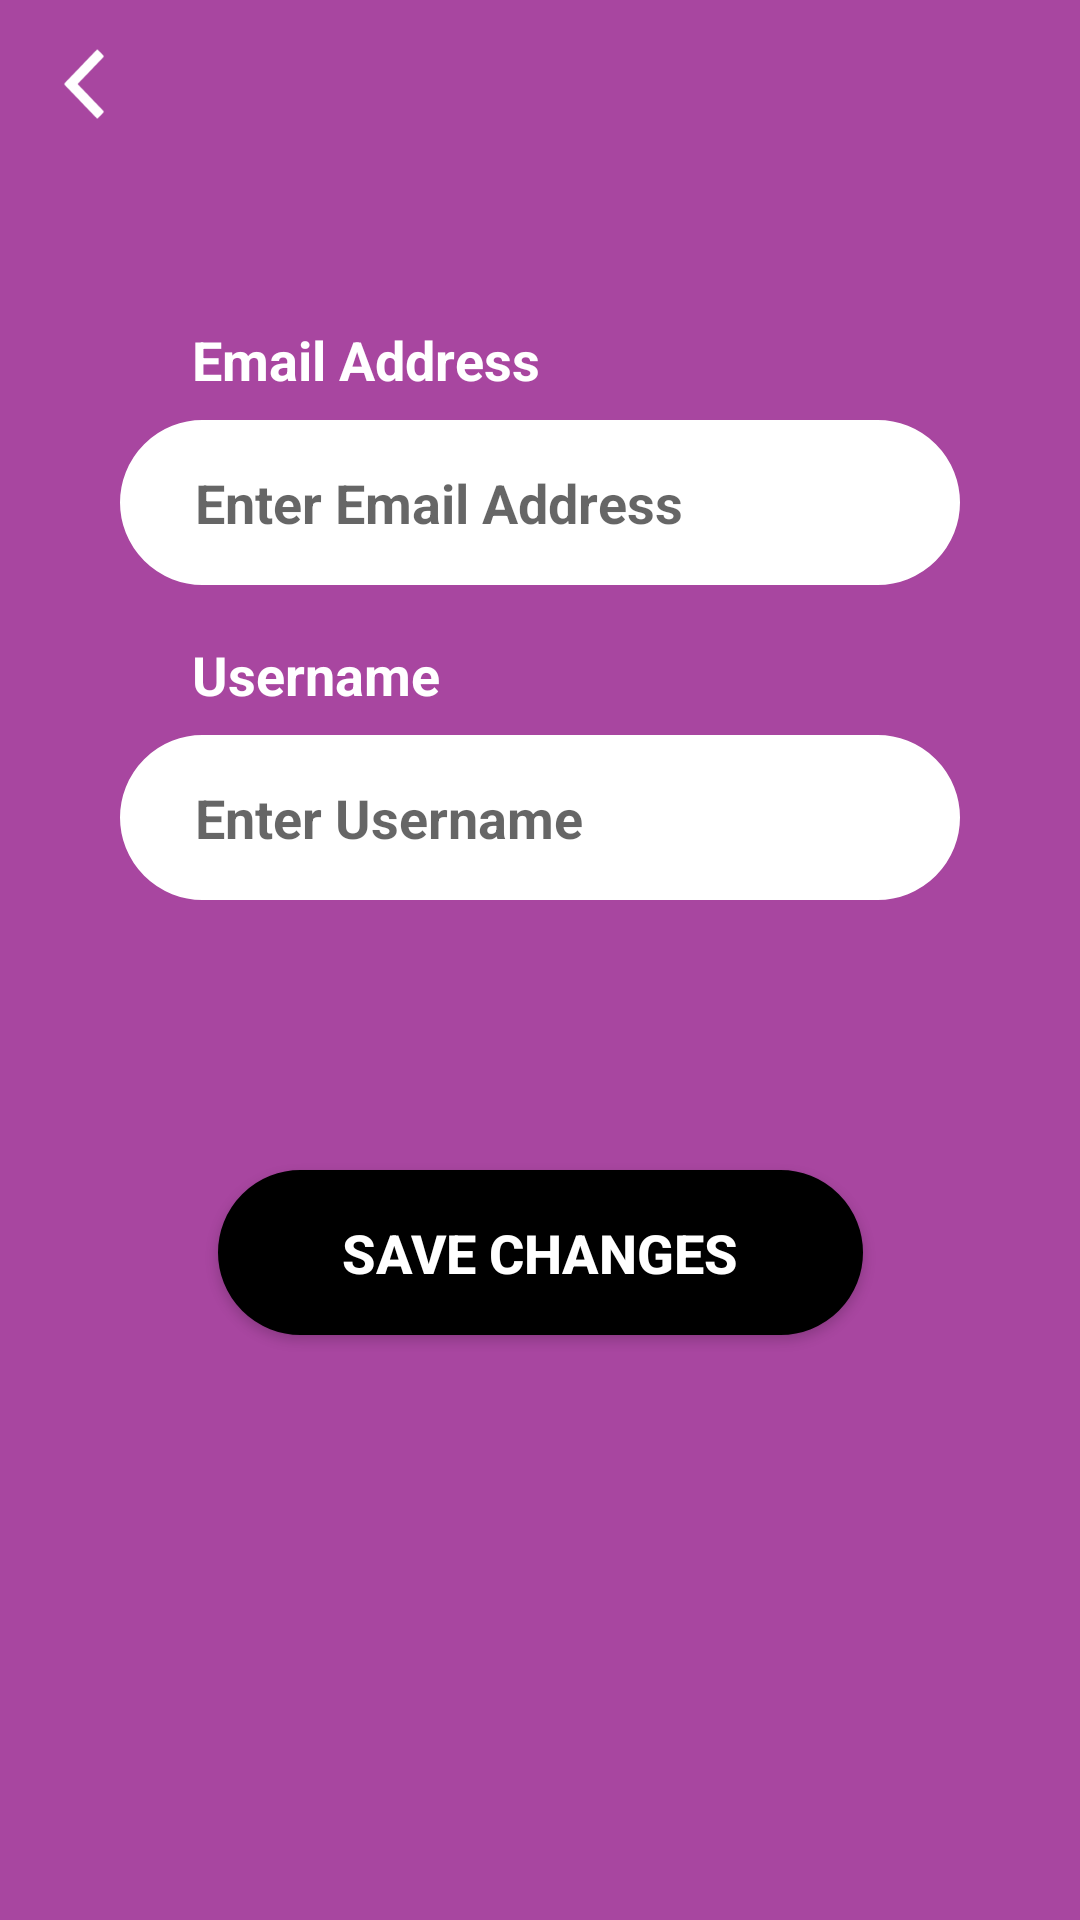

Screen size 1080 × 1920. Icon name, then its box in pixels as (x1, y1, x2, y2):
back: (64, 49, 104, 119)
